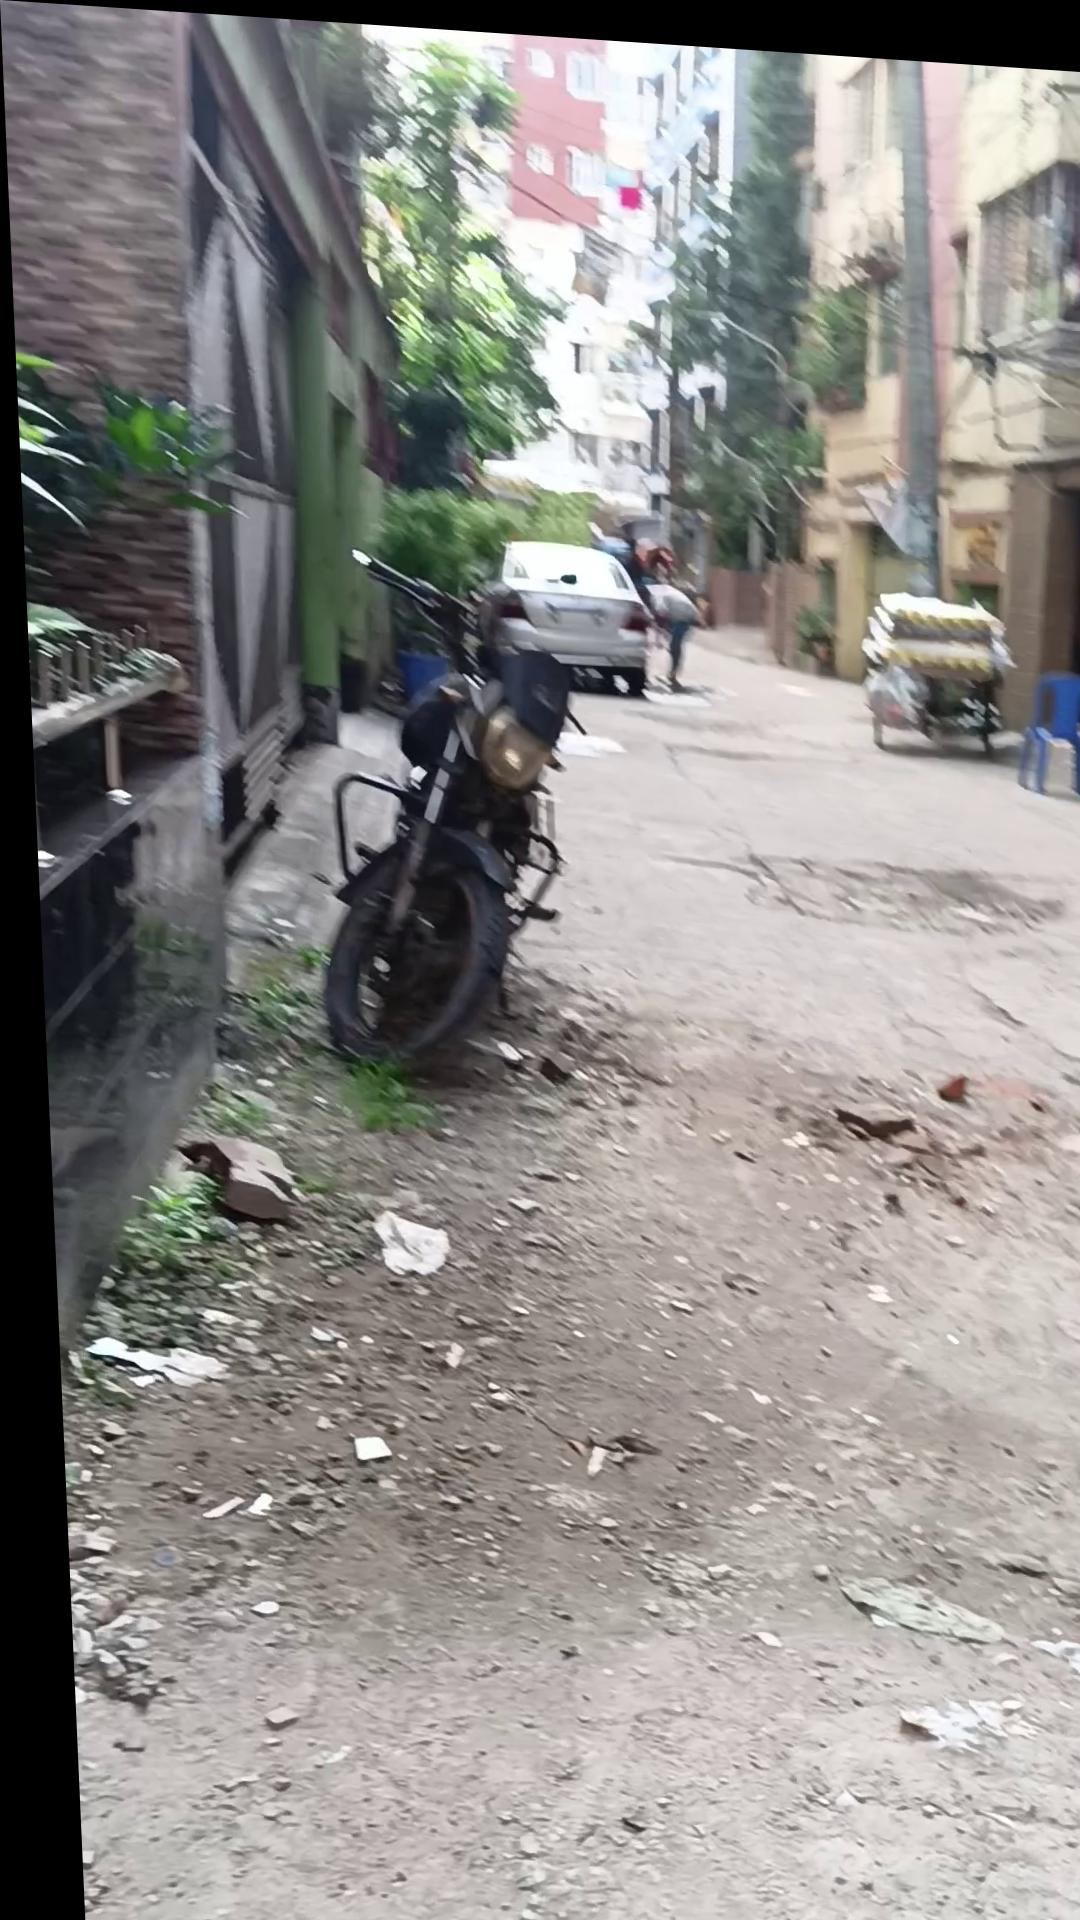Broken-road: (22, 564, 1080, 1920)
Car: (468, 529, 651, 688)
Light-pole: (294, 539, 588, 1079)
Muddy road: (634, 542, 704, 686)
Obstacle: (880, 47, 944, 588)
Pothole: (849, 574, 1011, 746)
